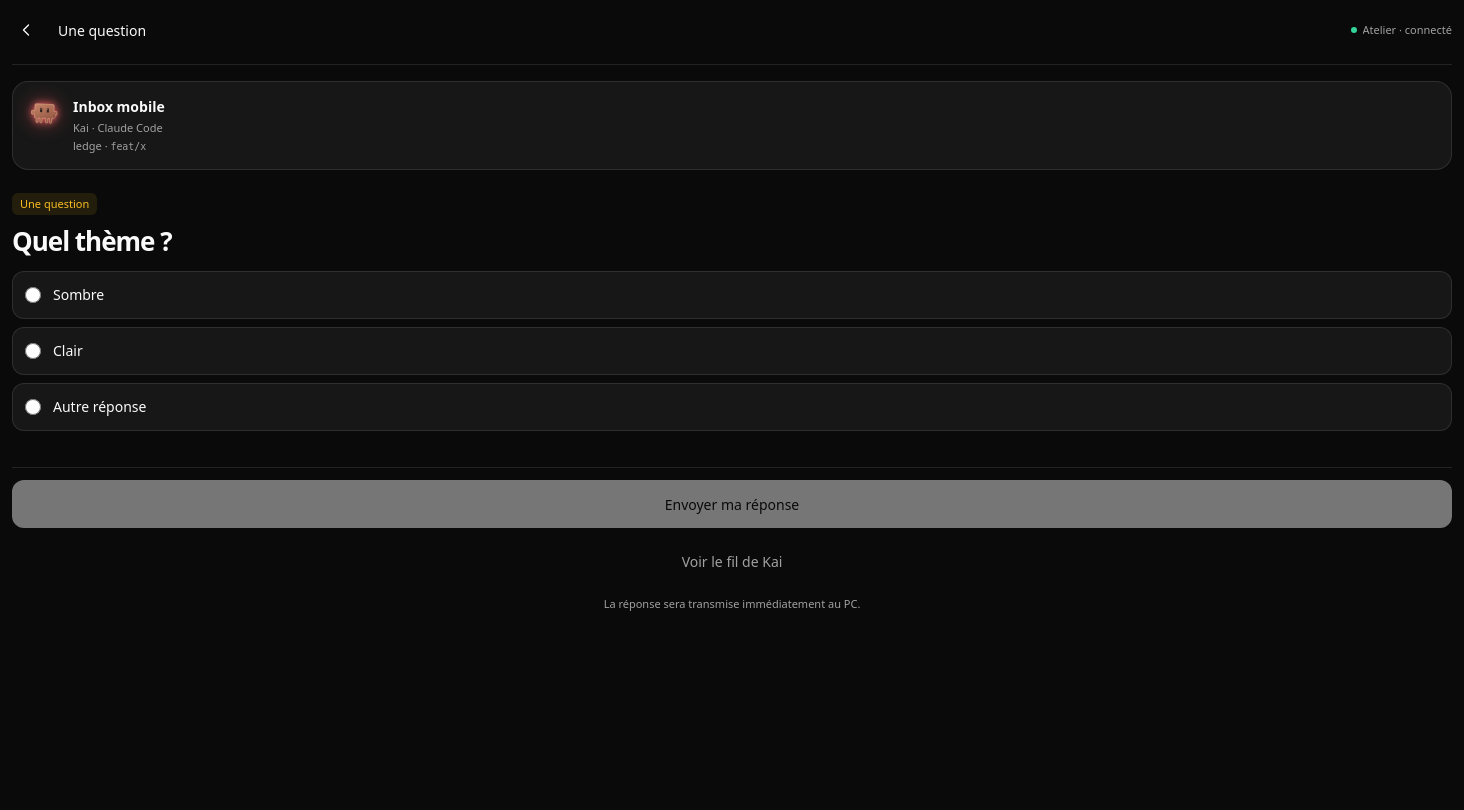
Test: the decision footer › a dialog without a free-text row says to answer on the PC
Click the radio button labelled "Autre réponse" at (33, 407), box [25, 399, 41, 415]
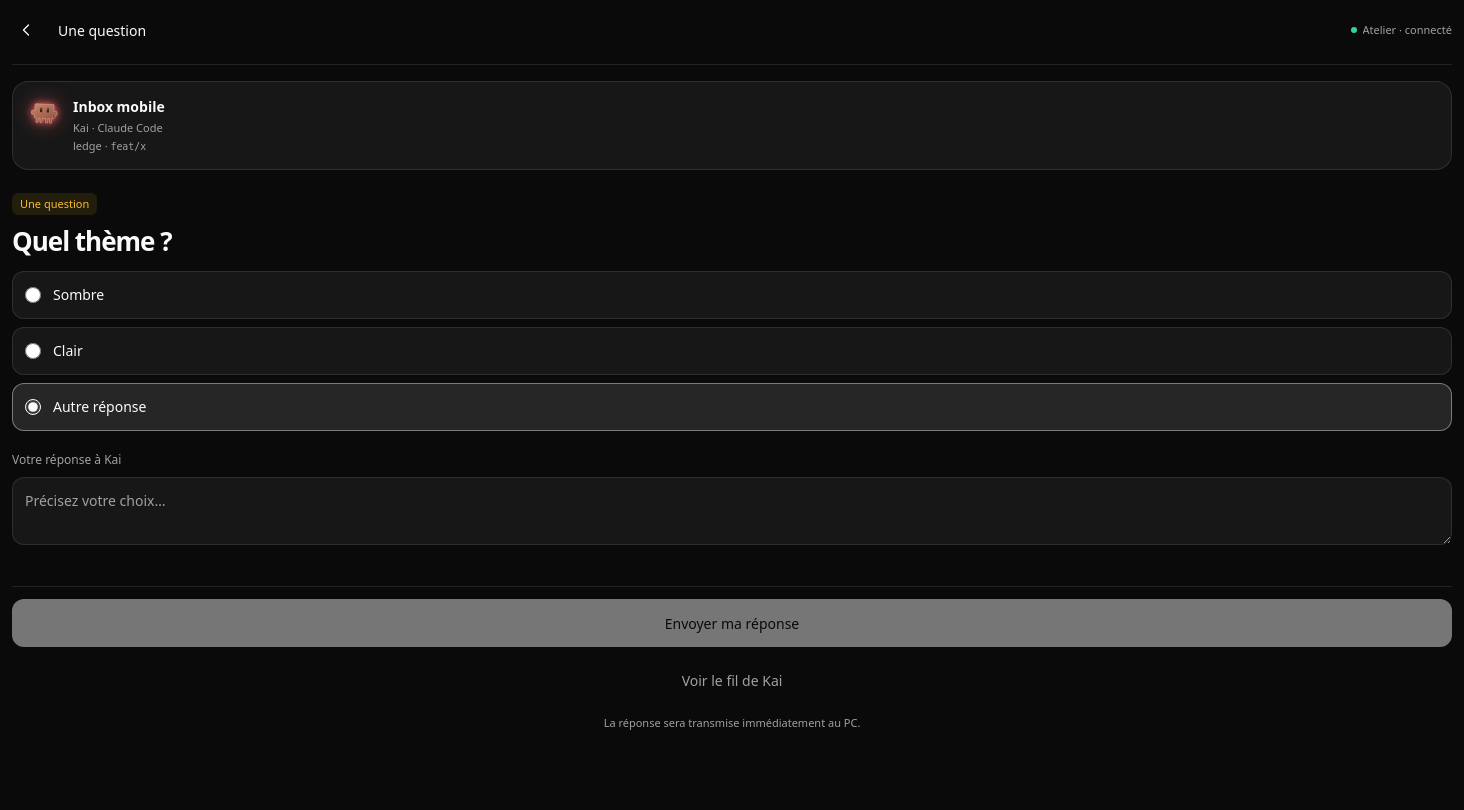
Type "Bleu nuit" into the text box labelled "Votre réponse à Kai" at (732, 511), box [12, 477, 1452, 545]
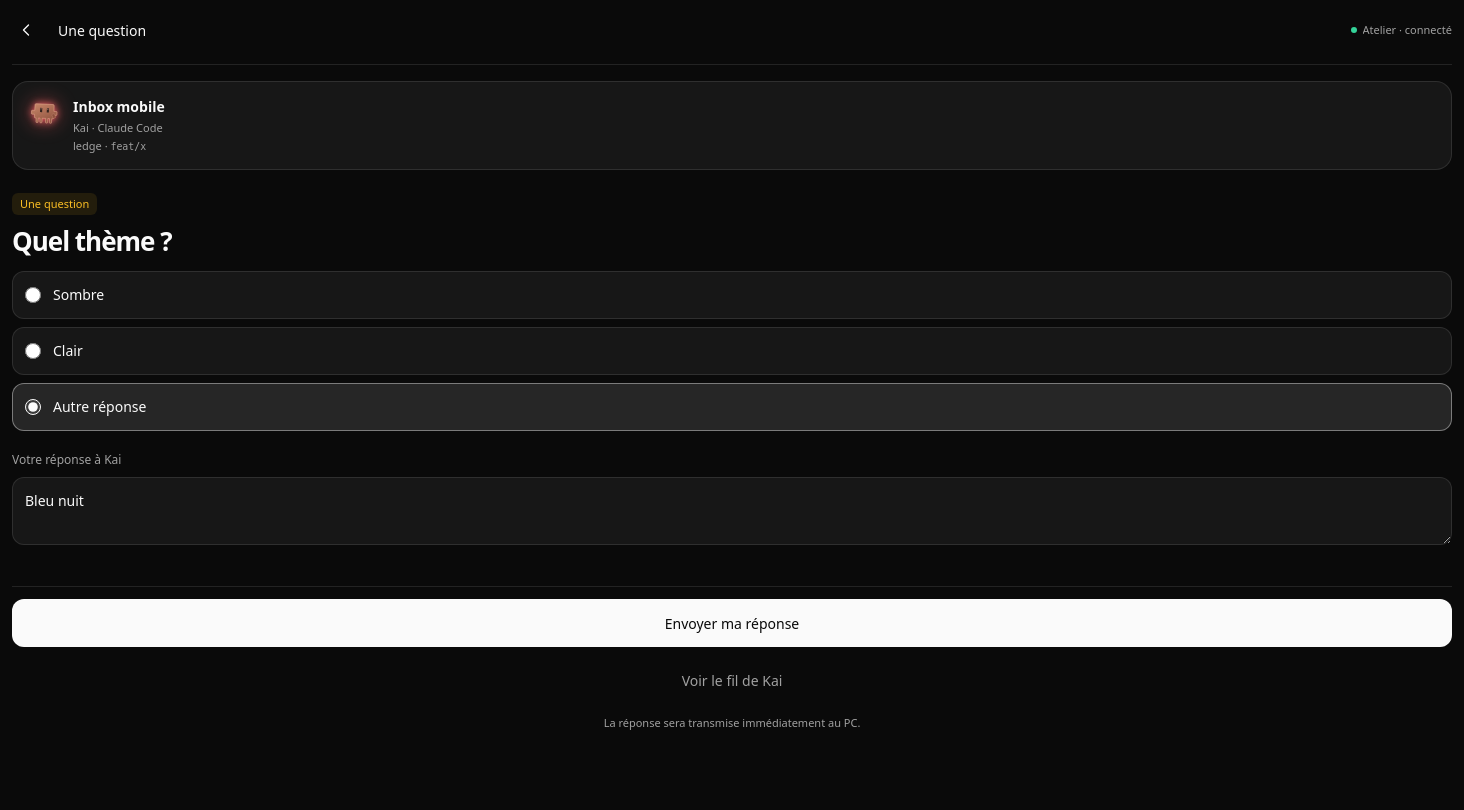
Click the button "Envoyer ma réponse" at (732, 623), box [12, 599, 1452, 647]
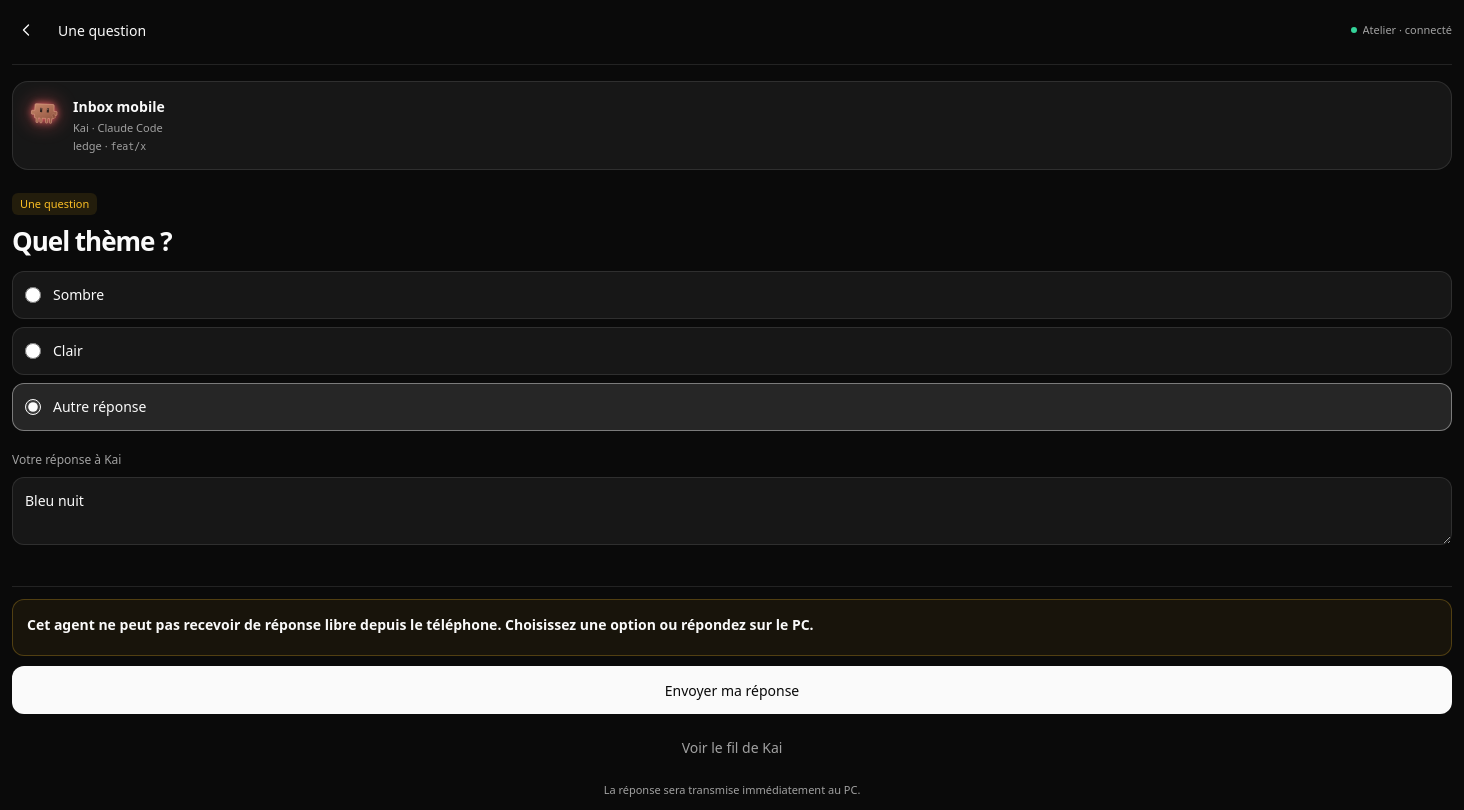
expect the message shows "ne peut pas recevoir de réponse libre": met, box [27, 615, 814, 634]
